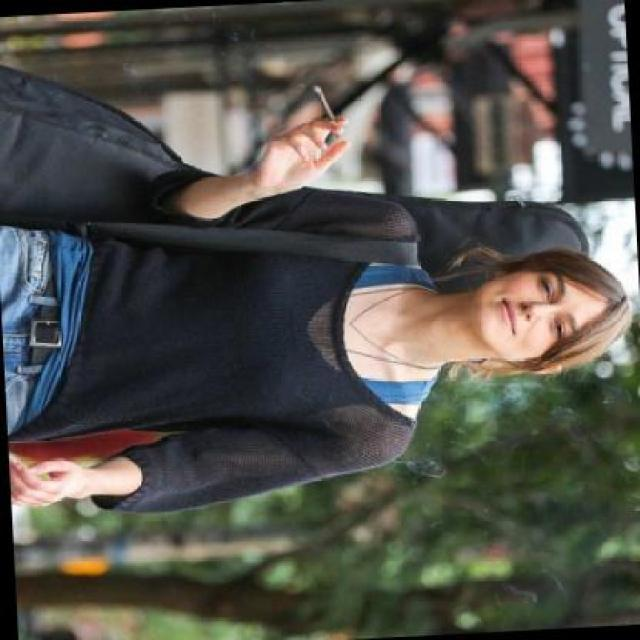rokok: (316, 82, 334, 122)
